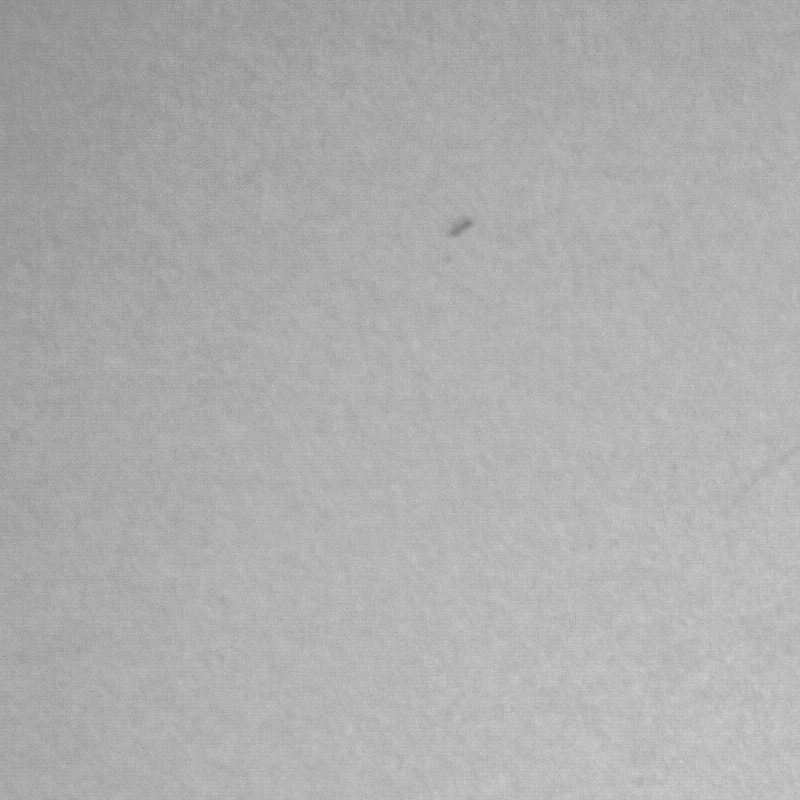defect: (722, 447, 794, 516), (435, 217, 473, 243)
